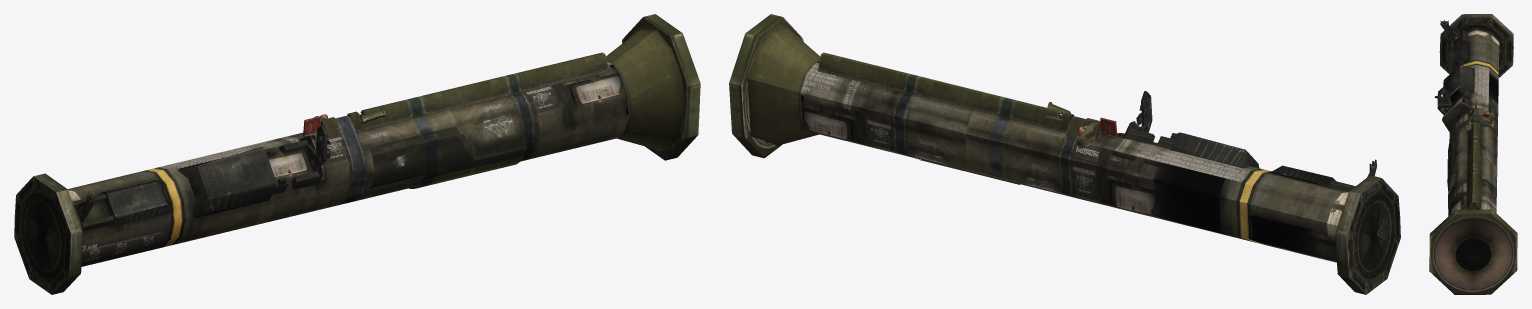
The model's file is 火箭筒.glb.
3 views of the same model, side by side, from view 1: azimuth 30°, elevation 25°; view 2: azimuth 150°, elevation 25°; view 3: azimuth 270°, elevation 25° (orthographic). The views are drawn at different scales.
Visible parts, largest first — view 1: 4f744618.obj_Material #344_0; view 2: 4f744618.obj_Material #344_0; view 3: 4f744618.obj_Material #344_0.
Boxes of the visible parts, x1,y1,x2,y2 form: 4f744618.obj_Material #344_0: (14, 14, 700, 294); 4f744618.obj_Material #344_0: (729, 14, 1400, 294); 4f744618.obj_Material #344_0: (1429, 14, 1517, 294).
Bounding box in the file's own units: 8.05 × 1.57 × 1.44.
Materials: 1 (1 with a texture image).
